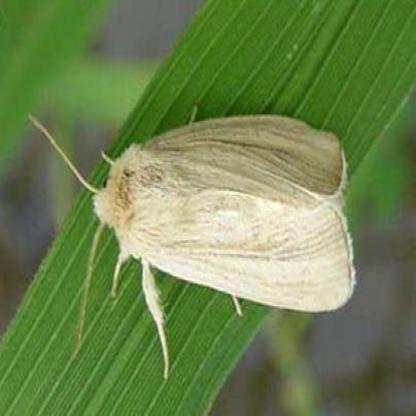stem-borer: (76, 106, 358, 360)
